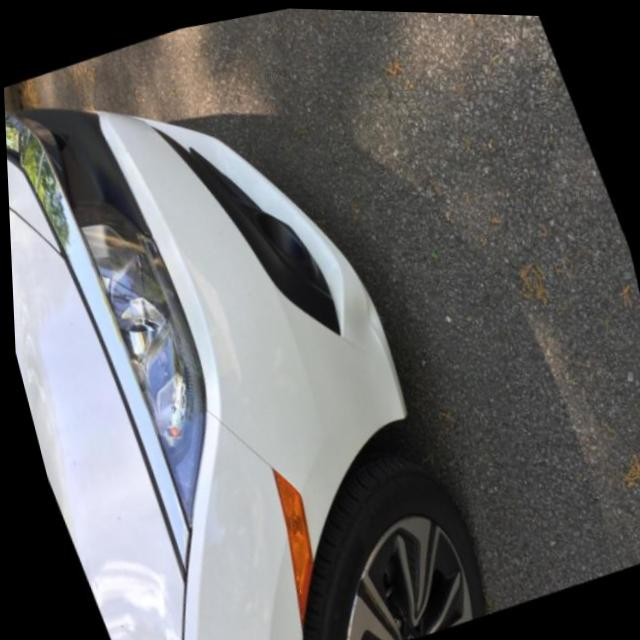Dent: (337, 279, 401, 371)
